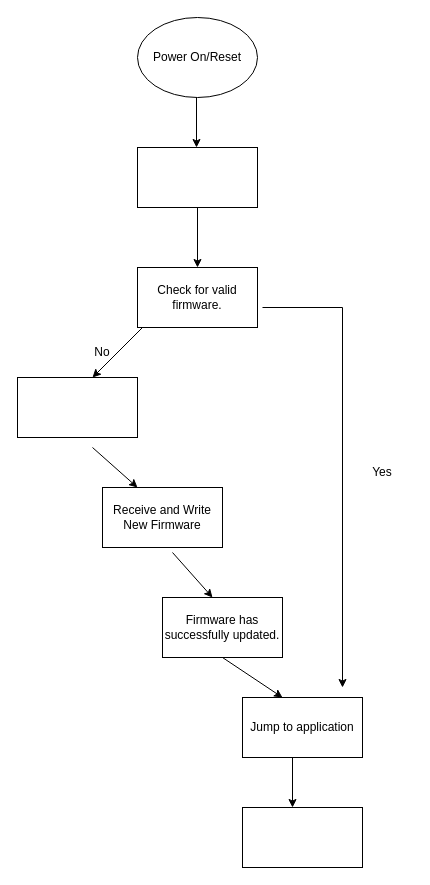
Some shapes in this 430 by 885 pixel diagram are drawn without their labels. The shapes that lost their labels are listed below. From the top down, each one's centre as x and y in pixels, then its label:
At point (197, 177): "Initialize bootloader hardware and peripherals.".
At point (77, 407): "Enter firmware update mode.".
At point (302, 837): "Application is running".
